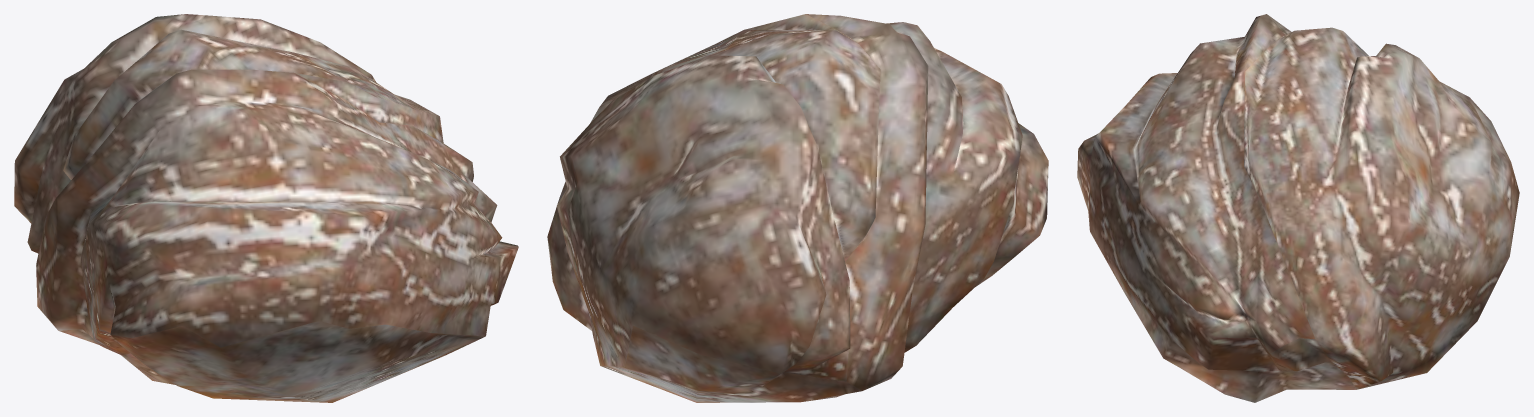
File: metal-ore.glb
The picture shows the model from 3 angles, left to right: view 1: azimuth 30°, elevation 25°; view 2: azimuth 150°, elevation 25°; view 3: azimuth 270°, elevation 25°; orthographic projection. The views are drawn at different scales.
Parts seen in each view (by area): view 1: Metal-Ore; view 2: Metal-Ore; view 3: Metal-Ore.
Part boxes in pixels (x1,y1,x2,y2): Metal-Ore: (14, 14, 518, 402); Metal-Ore: (547, 14, 1048, 402); Metal-Ore: (1077, 14, 1519, 402).
Bounding box in the file's own units: 4.4 × 3.66 × 4.68.
1 material, 1 textured.
